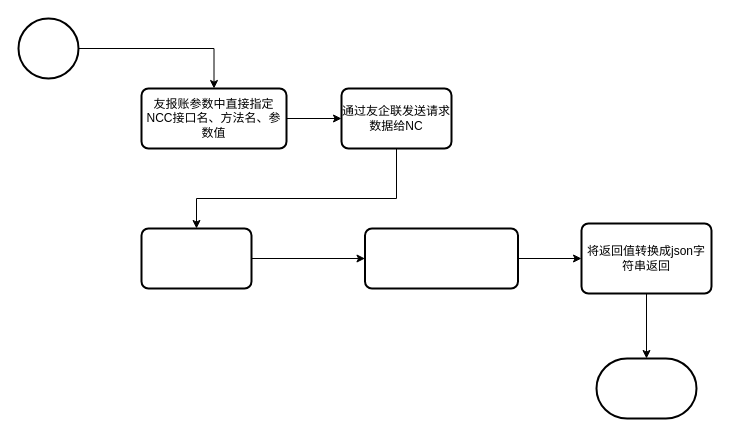
Some shapes in this 729 by 436 pixel diagram are drawn without their labels. Each missing label, with the centre of its shape:
友报账在NCC的参数解析组件: pixel 196 258
实例化接口和参数，通过反射调用: pixel 441 258
